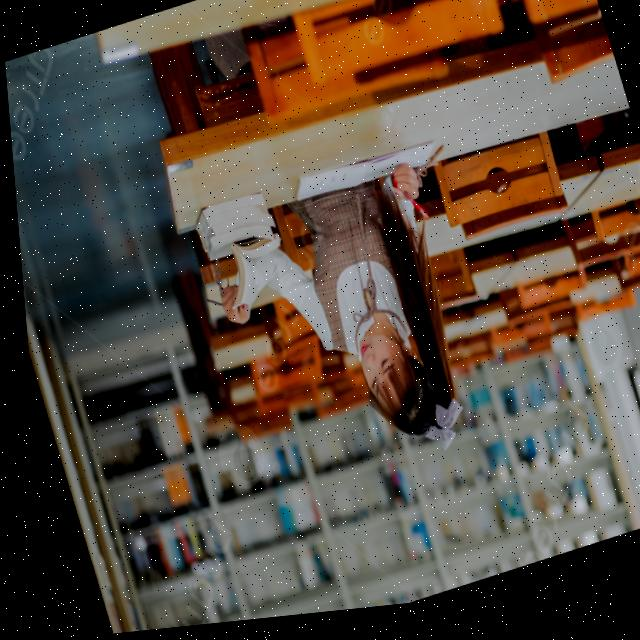studying-person: (165, 113, 529, 520)
